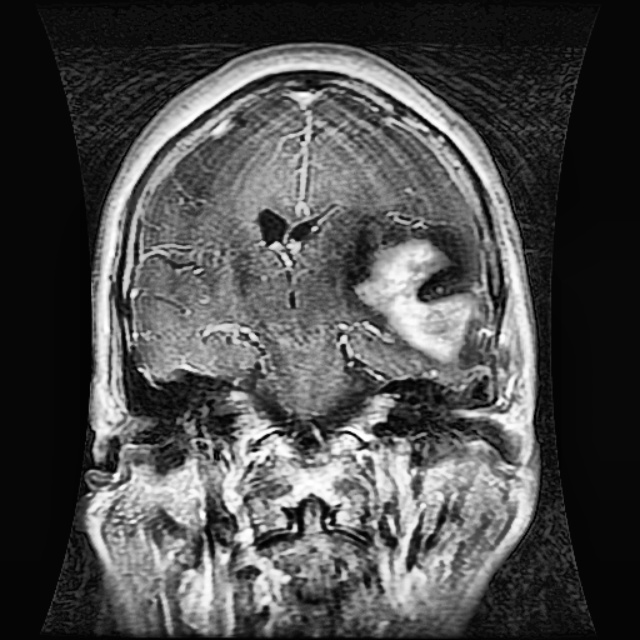Meningioma: (349, 223, 489, 370)
